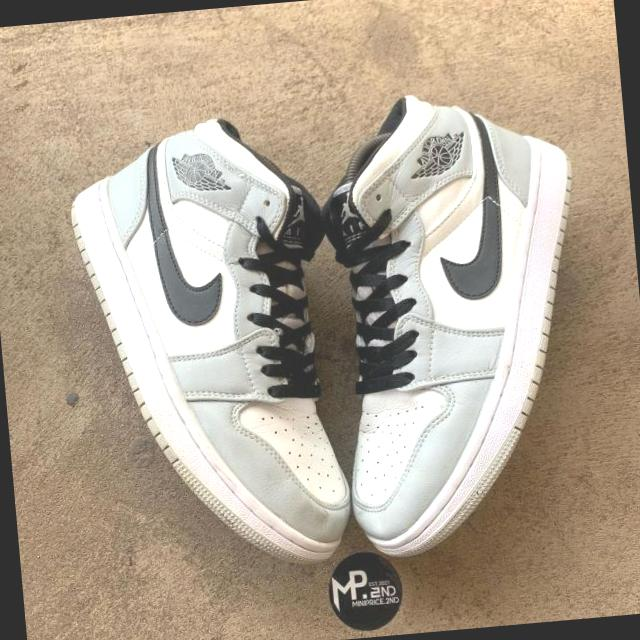nike_fake_jordan: (62, 110, 358, 583), (314, 94, 605, 564)
